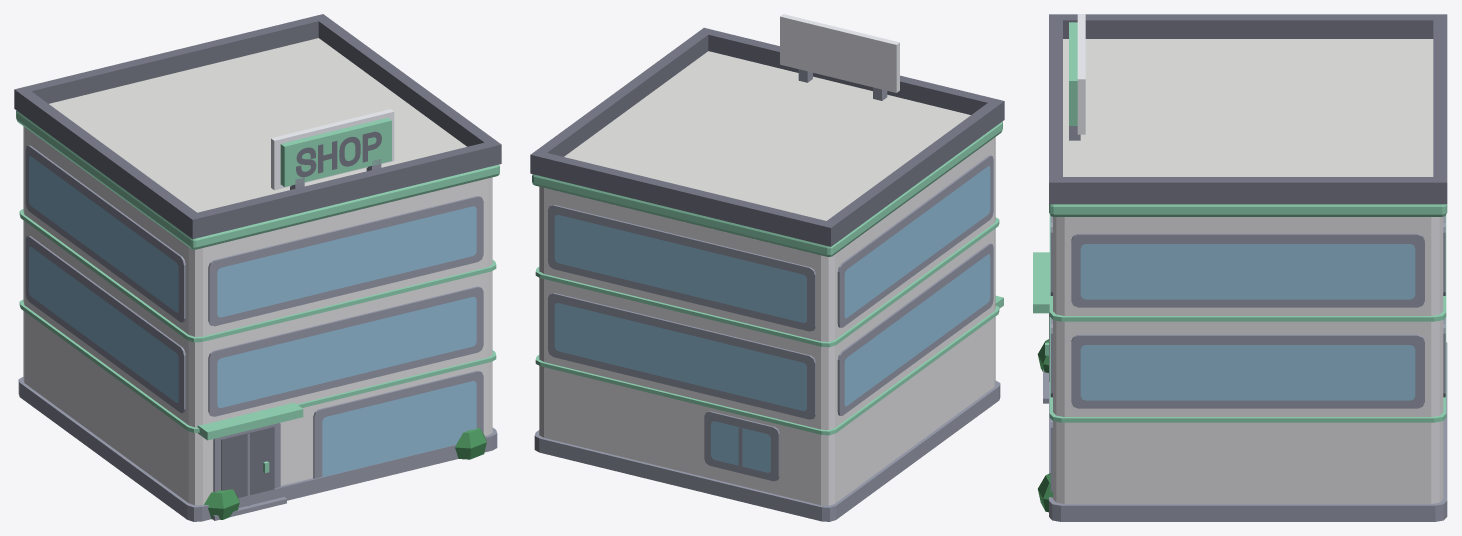
File: shop-general-1x1-t3-tone-a.glb
The picture shows the model from 3 angles, left to right: view 1: azimuth 30°, elevation 25°; view 2: azimuth 150°, elevation 25°; view 3: azimuth 270°, elevation 25°; orthographic projection. The views are drawn at different scales.
Visible parts, largest first — view 1: shop-general-1x1-t3-tone-a; view 2: shop-general-1x1-t3-tone-a; view 3: shop-general-1x1-t3-tone-a.
Boxes of the visible parts, box(x1,y1,x2,y2) form: shop-general-1x1-t3-tone-a: box(14, 14, 501, 521); shop-general-1x1-t3-tone-a: box(530, 14, 1004, 521); shop-general-1x1-t3-tone-a: box(1033, 14, 1447, 521).
Bounding box in the file's own units: 1 × 1.08 × 1.04.
Materials: 1 (1 with a texture image).
